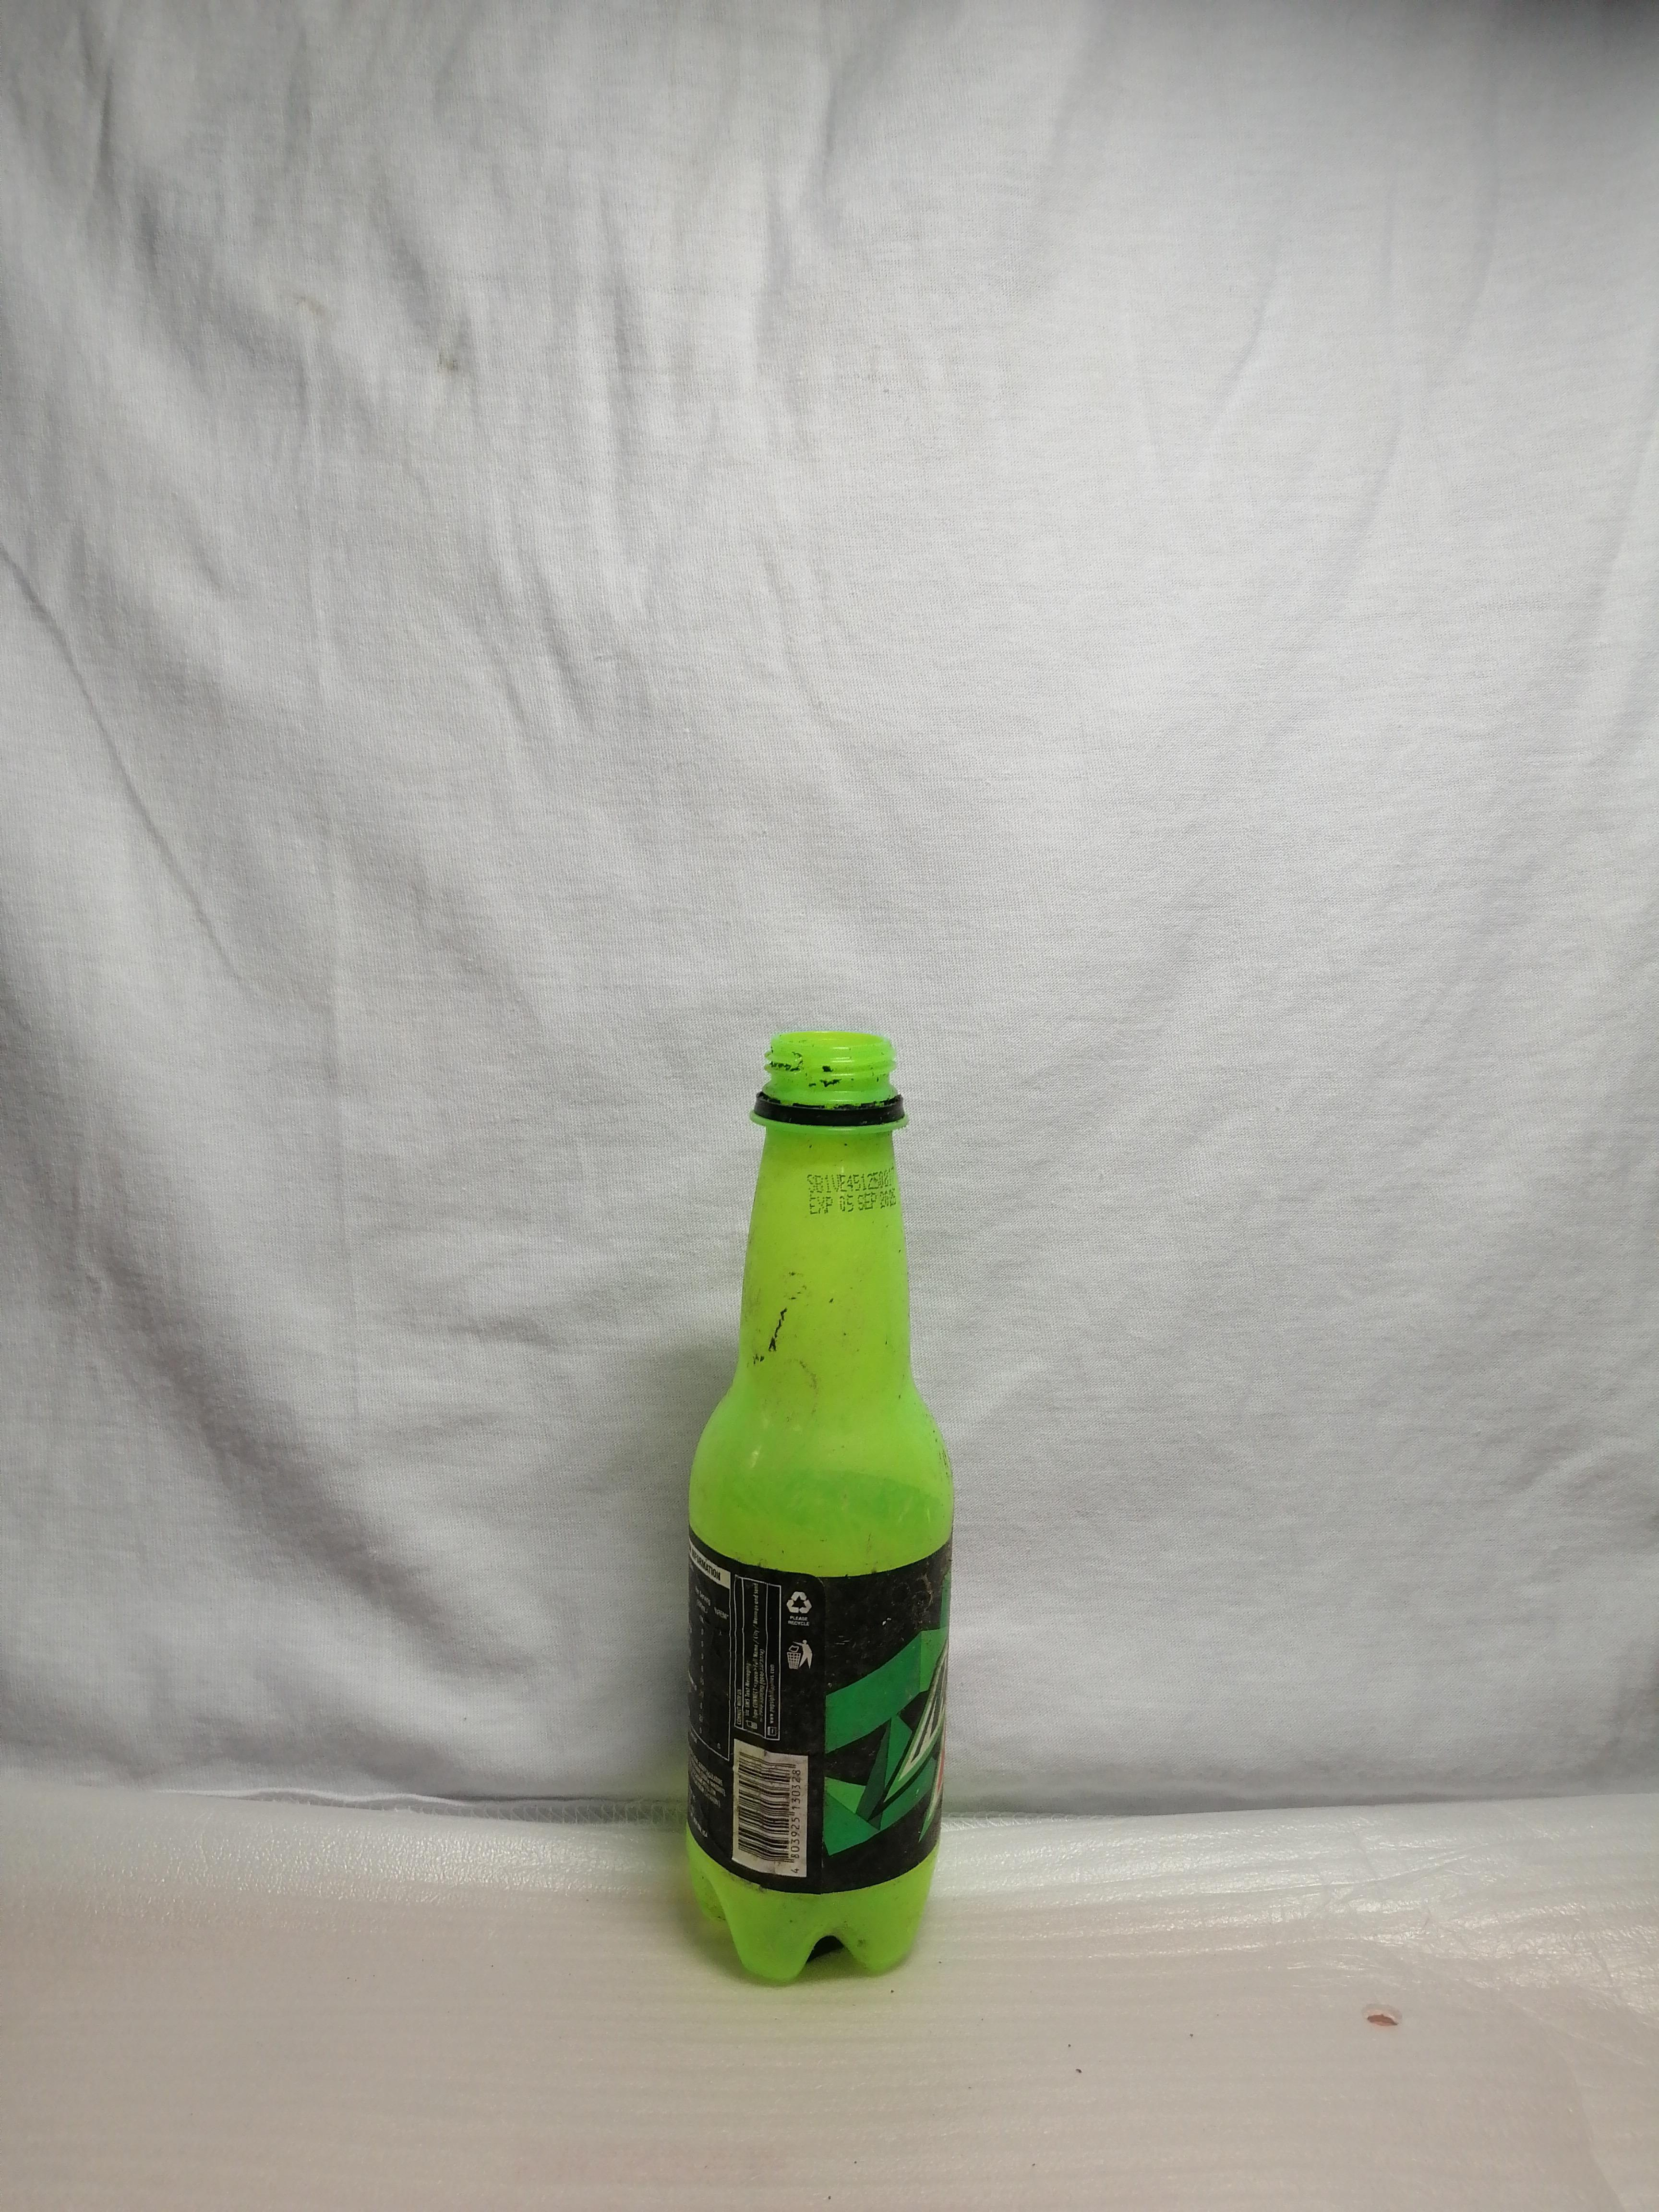plastic-bottle: (624, 998, 994, 2007)
